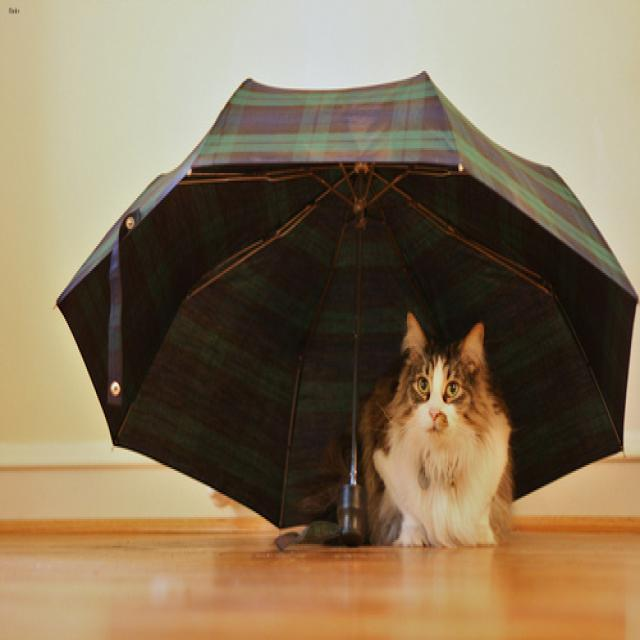Maine_Coon: (384, 303, 505, 458)
